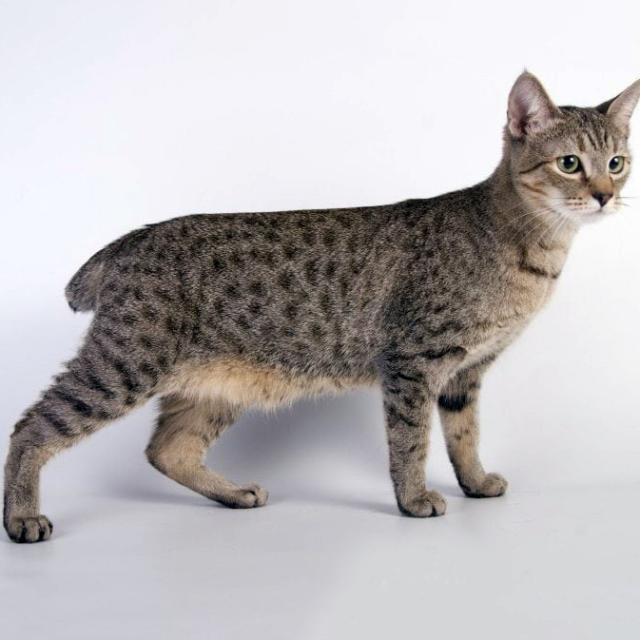American Bobtail: (0, 63, 640, 550)
